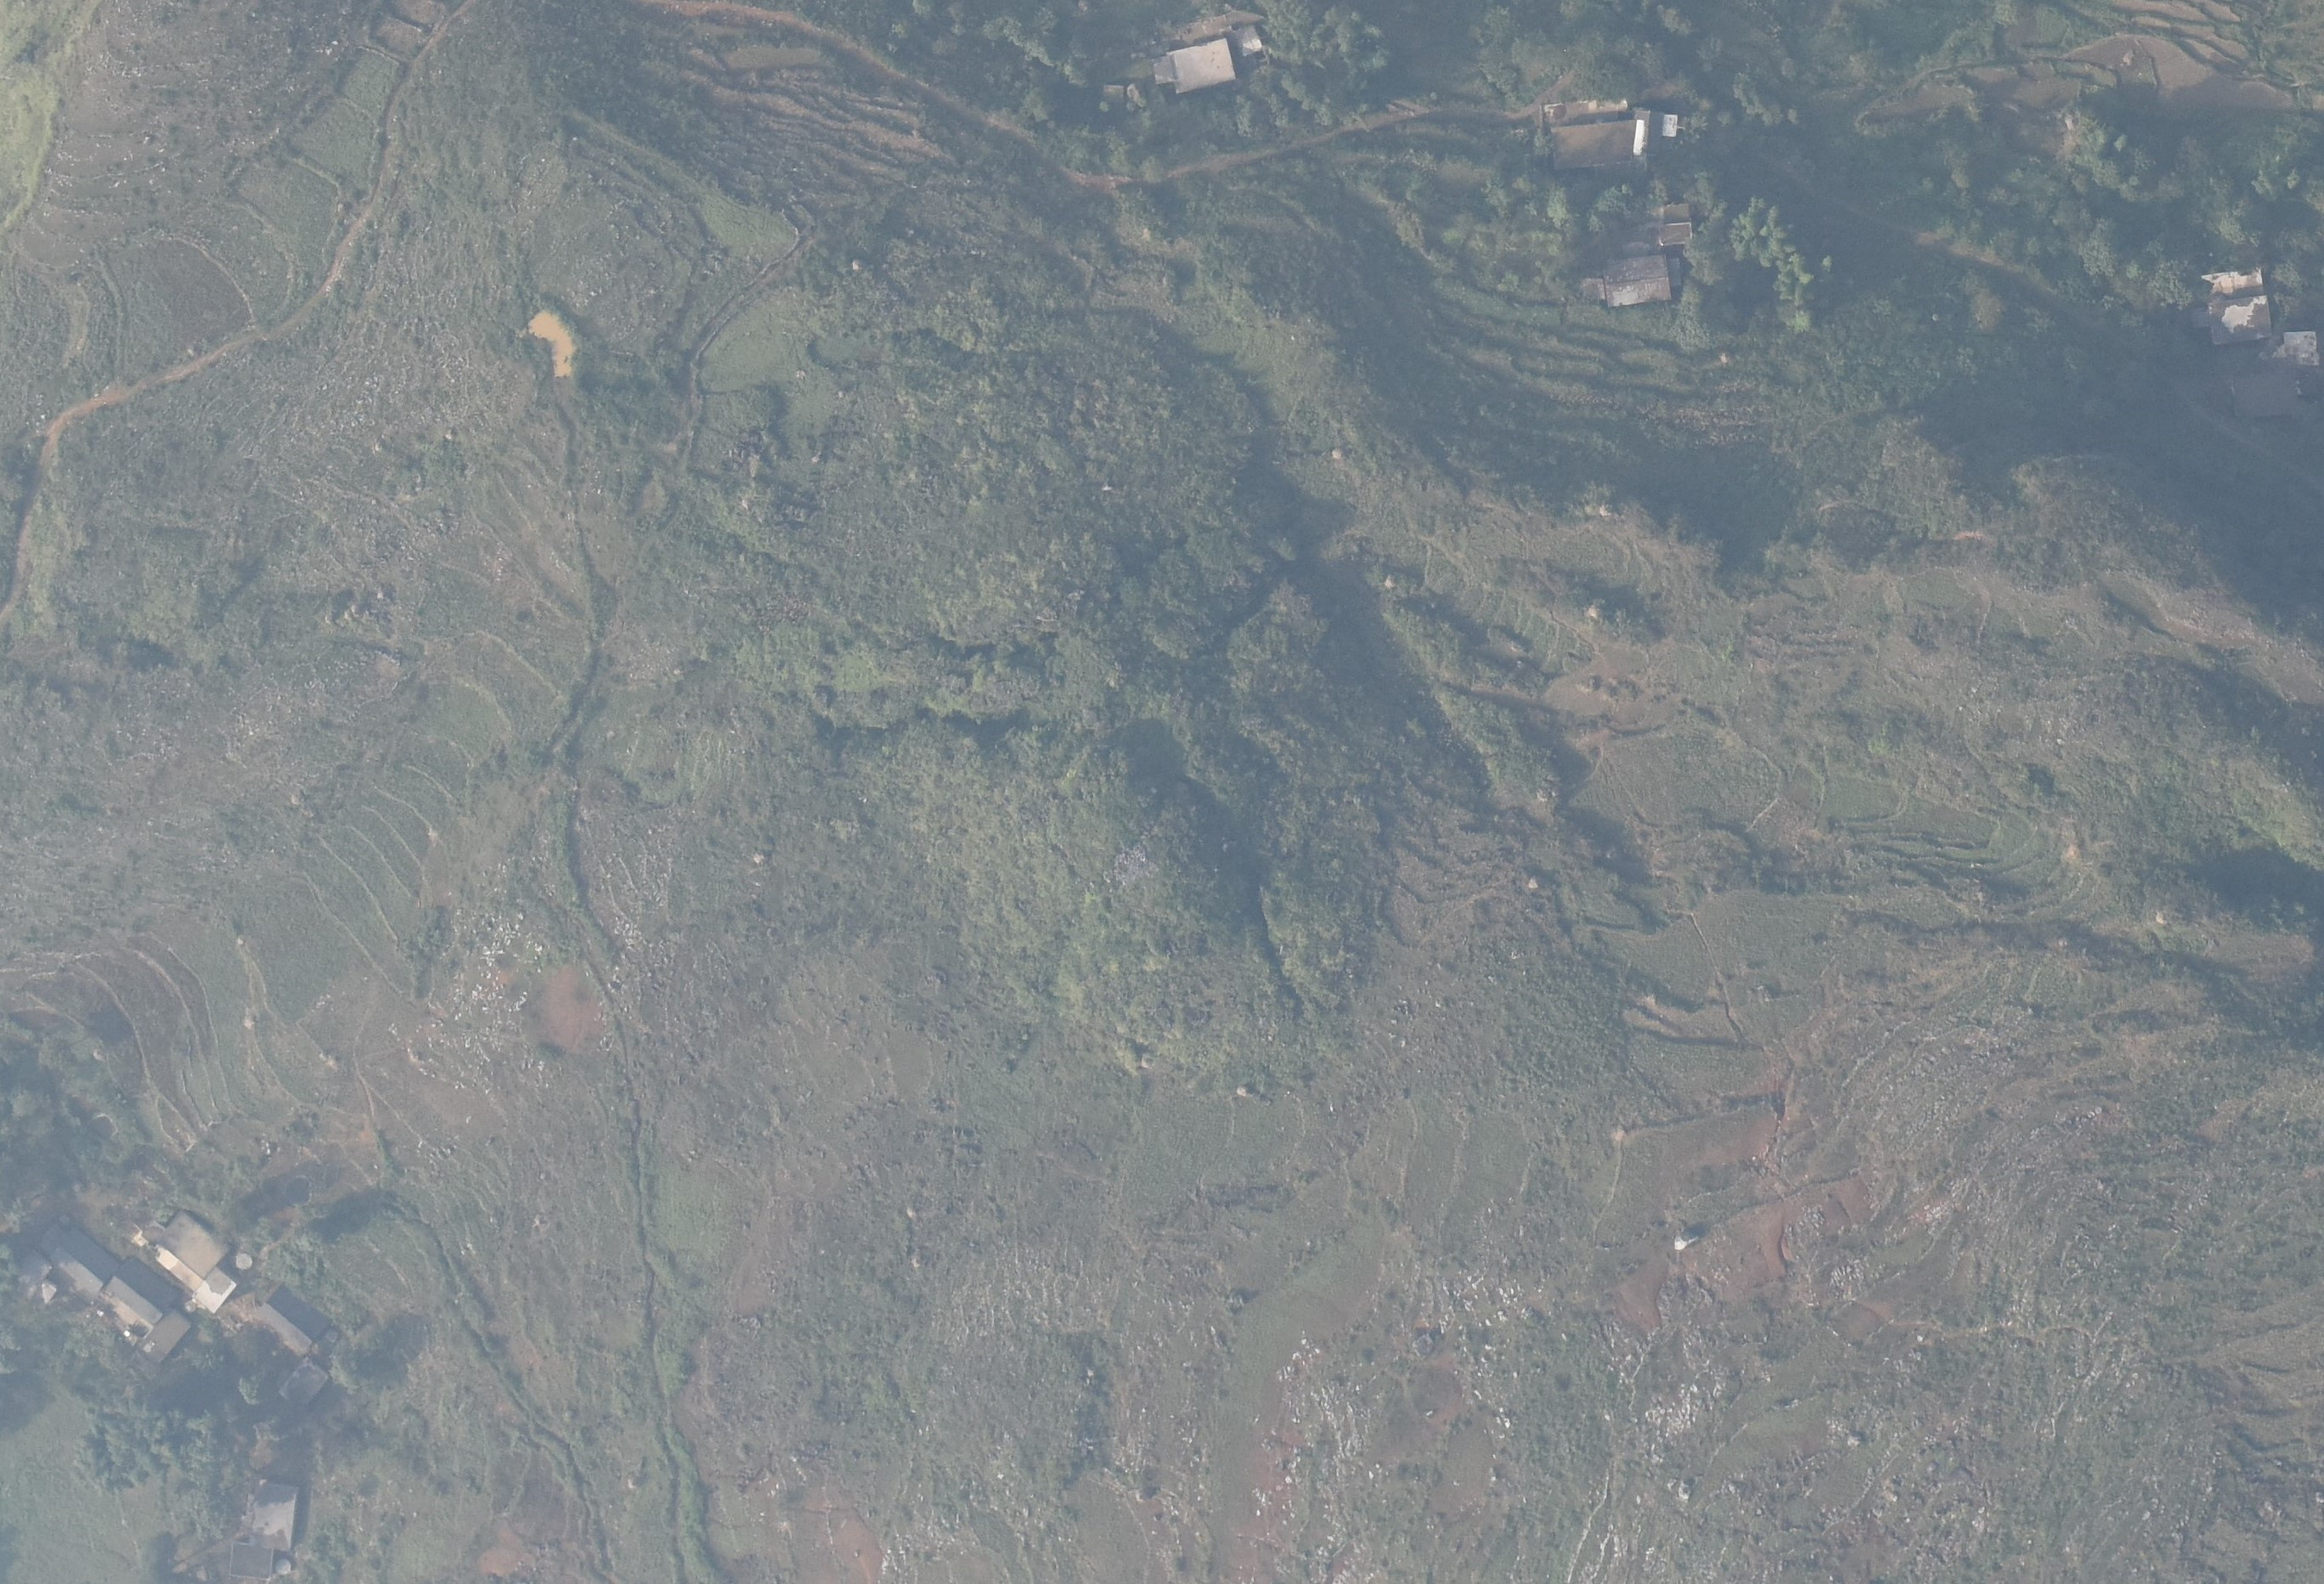building: (154, 1208, 234, 1295), (99, 1259, 188, 1327), (252, 1283, 328, 1363), (240, 1475, 305, 1555), (1549, 117, 1640, 172), (46, 1226, 117, 1295), (1600, 249, 1675, 312), (1170, 37, 1238, 93), (2206, 299, 2277, 349), (1537, 97, 1632, 130), (279, 1356, 331, 1416), (2197, 262, 2270, 304), (140, 1305, 194, 1360), (221, 1538, 274, 1580), (195, 1266, 236, 1316), (2282, 327, 2323, 373), (1632, 106, 1665, 159), (1654, 220, 1703, 251), (1656, 199, 1693, 226), (1100, 81, 1126, 117), (1232, 25, 1263, 56), (1148, 54, 1176, 87)
pool: (519, 304, 583, 391)
well: (231, 1254, 257, 1271), (272, 1559, 293, 1576)
